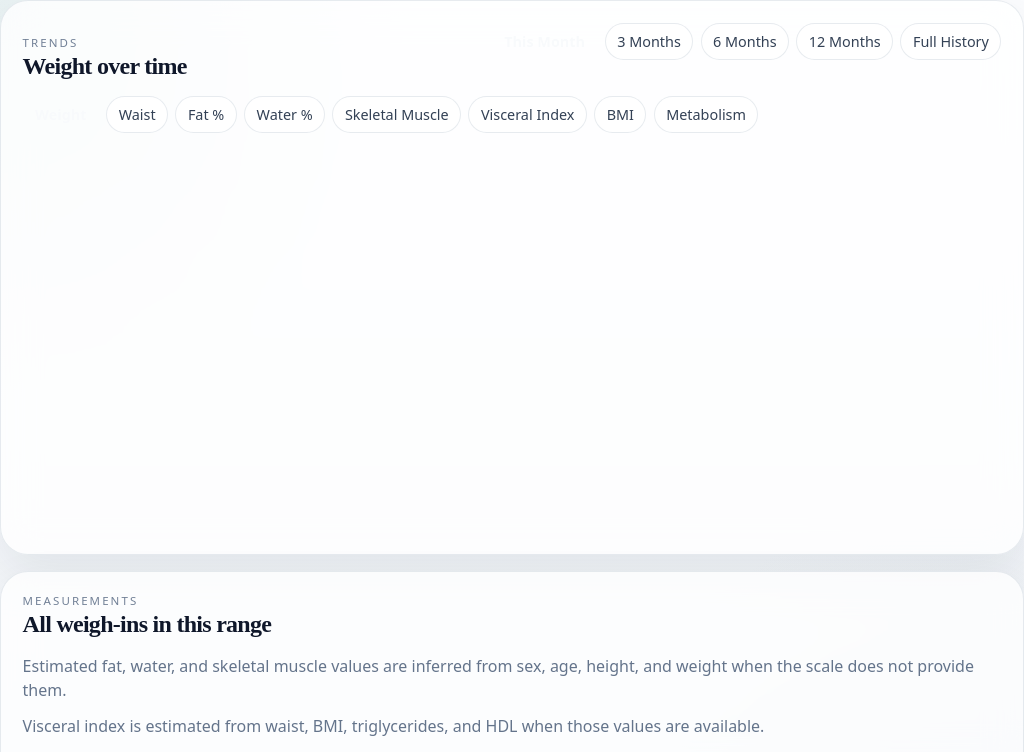
Scenario: TrendsPanel › recovers cleanly after switching to a metric with no values
What coordinates should you click on to do the following:
click the button "Water %"
I would click on:
 (285, 114)
Its box is [244,96,325,133].
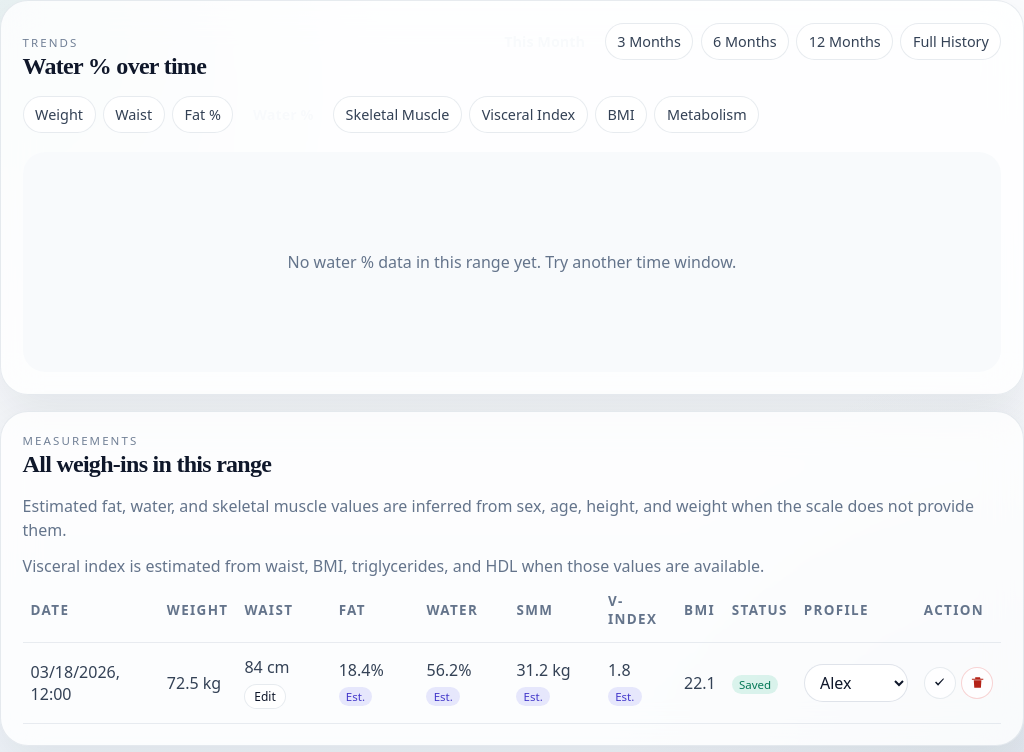
Expected: the text "No water % data in this range yet. Try another time window." is shown, [23,152,1001,372]
What coordinates should you click on to do the following:
click the button "Weight"
I would click on:
 (59, 114)
Its box is [23,96,96,133].
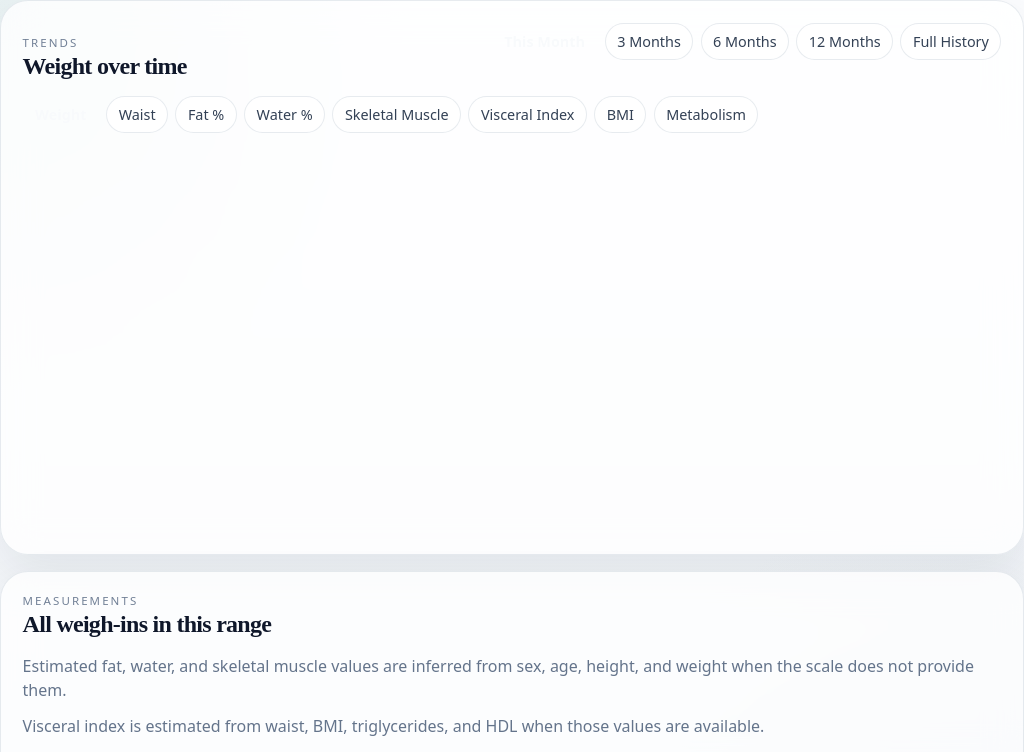
Expected: the heading "Weight over time" is shown, [23,53,187,80]
